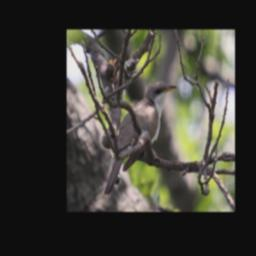Cuckoo: (104, 78, 179, 199)
